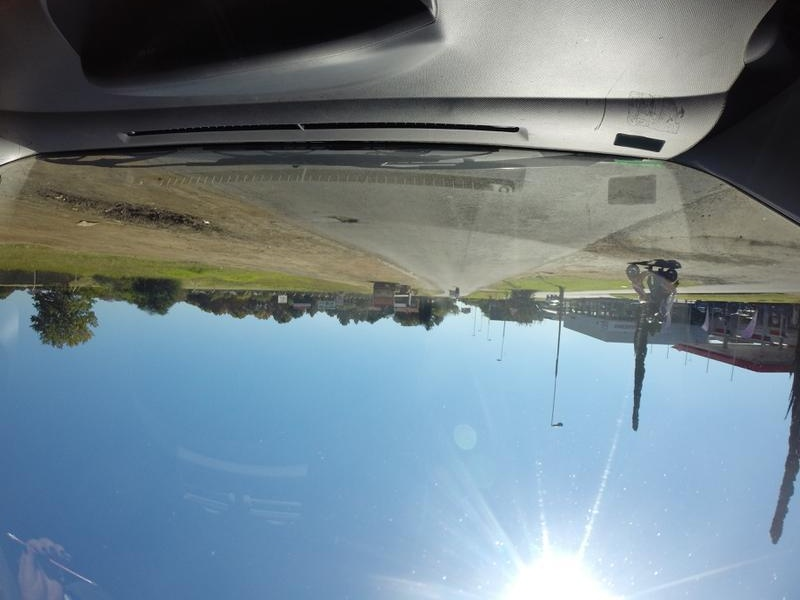pothole: (327, 215, 371, 223)
